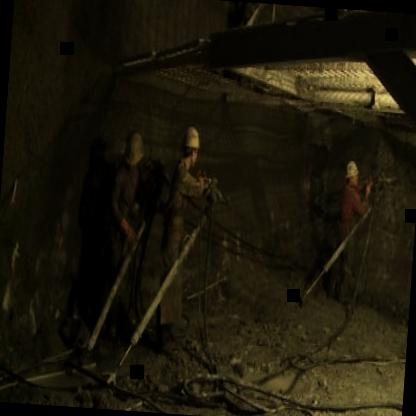helmet: (120, 130, 148, 192), (180, 123, 204, 167), (343, 157, 363, 188)
